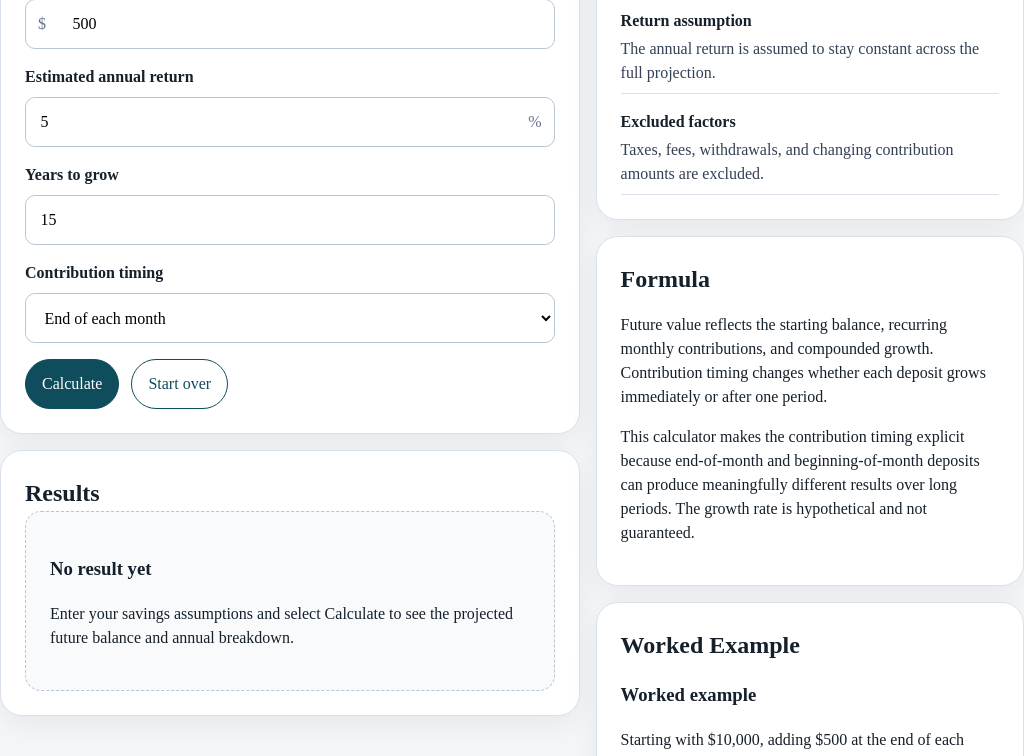
Scenario: calculator layout migration › savings calculator shows an empty state, calculates, and resets
The image size is (1024, 756).
(page scrolled)
Expected: the heading "No result yet" is shown, [50,558,152,579]
Click the button "Calculate" at (72, 384), box [25,359,119,409]
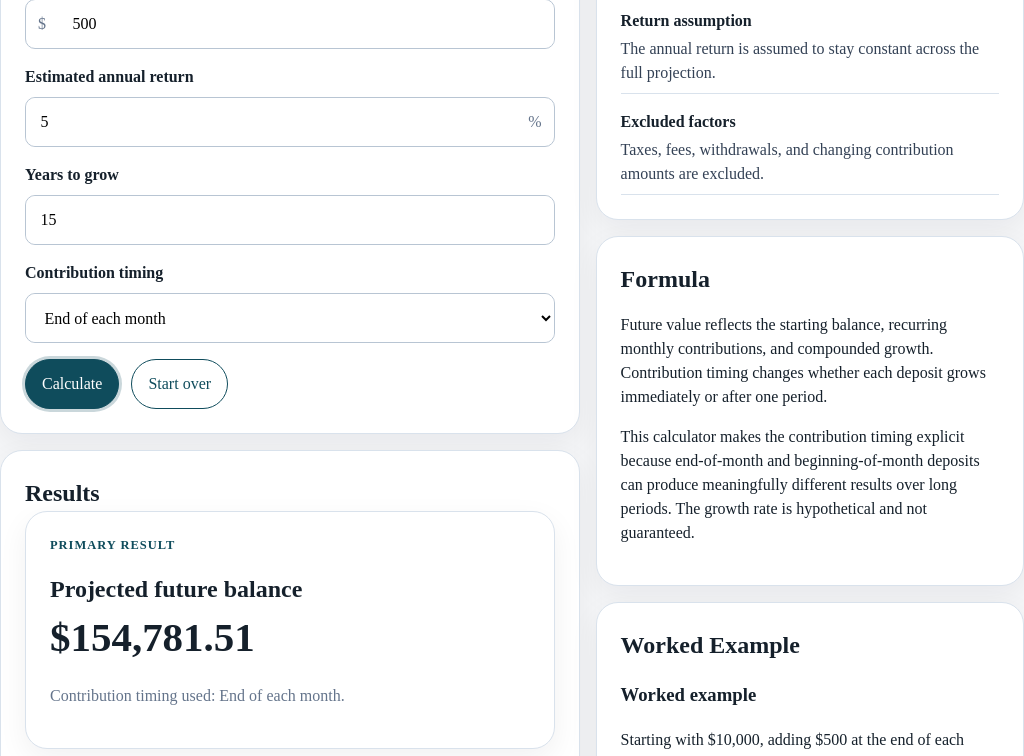
Expected: the heading "Projected future balance" is shown, [50,576,302,602]
Click the button "Start over" at (180, 384), box [131,359,228,409]
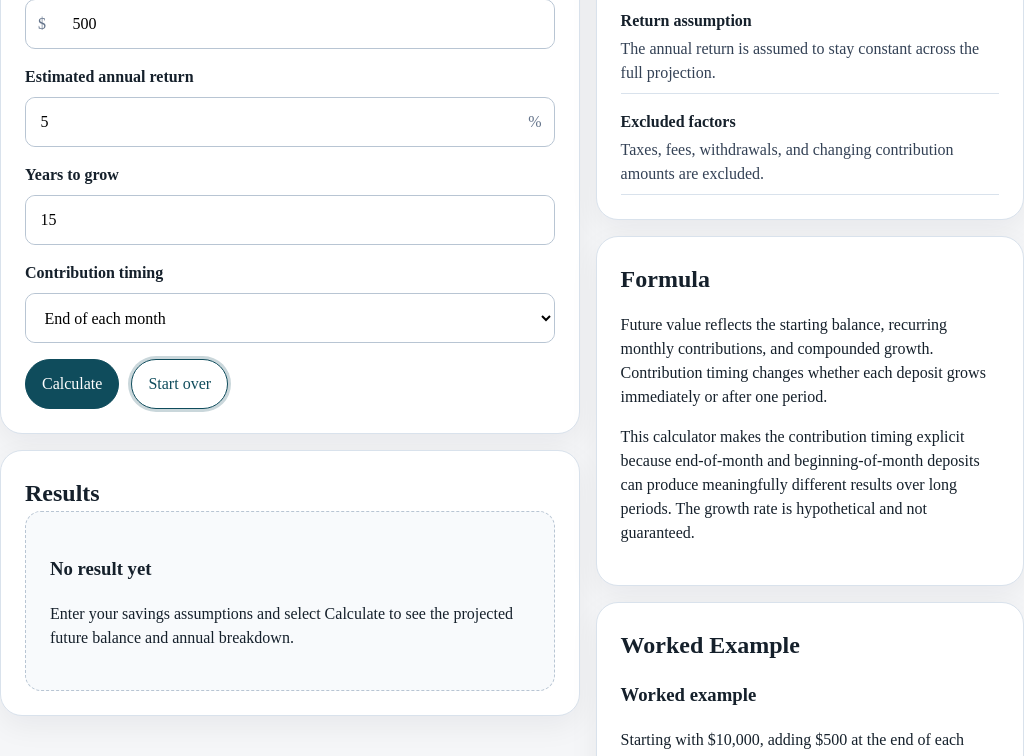
Expected: the heading "No result yet" is shown, [50,558,152,579]
